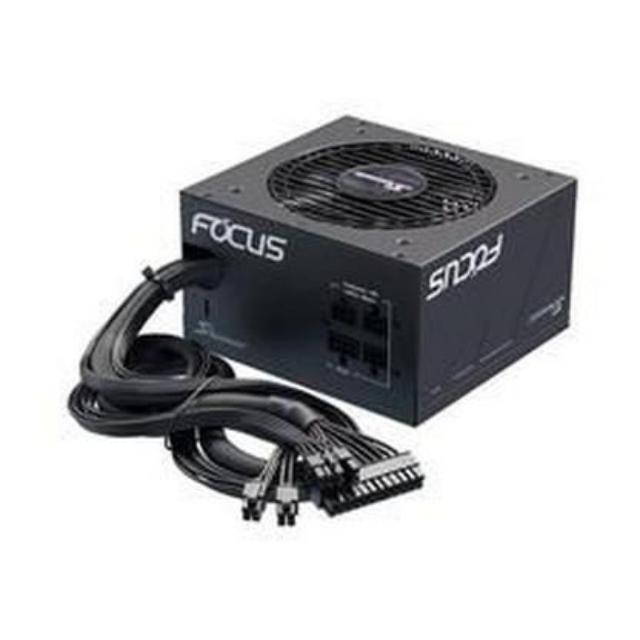PSU: (173, 107, 579, 430)
